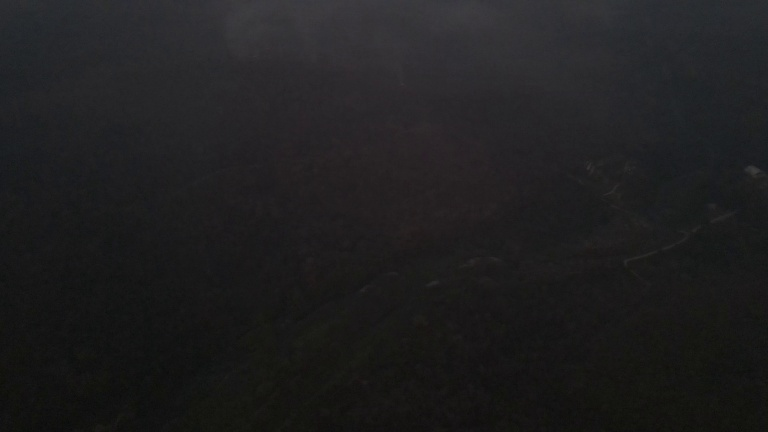fire: (399, 79, 408, 89)
smoke: (217, 1, 406, 71)
